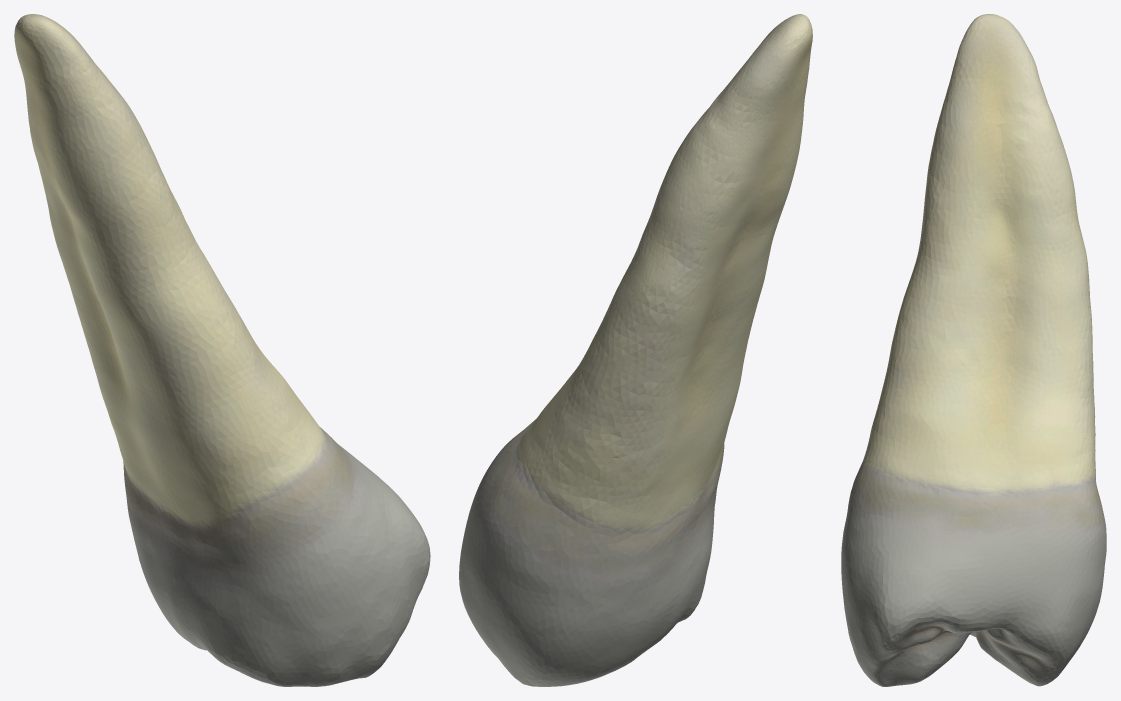
File: 15 - segundo premolar superior direito.glb
3 renders of one model, left to right at view 1: azimuth 30°, elevation 25°; view 2: azimuth 150°, elevation 25°; view 3: azimuth 270°, elevation 25°, orthographic. The views are drawn at different scales.
Visible parts, largest first — view 1: 3MFMeshParent_0; view 2: 3MFMeshParent_0; view 3: 3MFMeshParent_0.
Boxes of the visible parts, left/top/right/bottom form: 3MFMeshParent_0: left=14, top=14, right=430, bottom=686; 3MFMeshParent_0: left=459, top=14, right=812, bottom=686; 3MFMeshParent_0: left=841, top=14, right=1106, bottom=686.
Bounding box in the file's own units: 0.2704 × 0.512 × 0.2145.
Materials: 1 (1 with a texture image).
